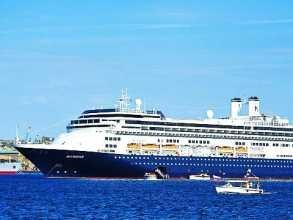otherboat: (211, 174, 268, 197)
youlun: (14, 78, 293, 179)
